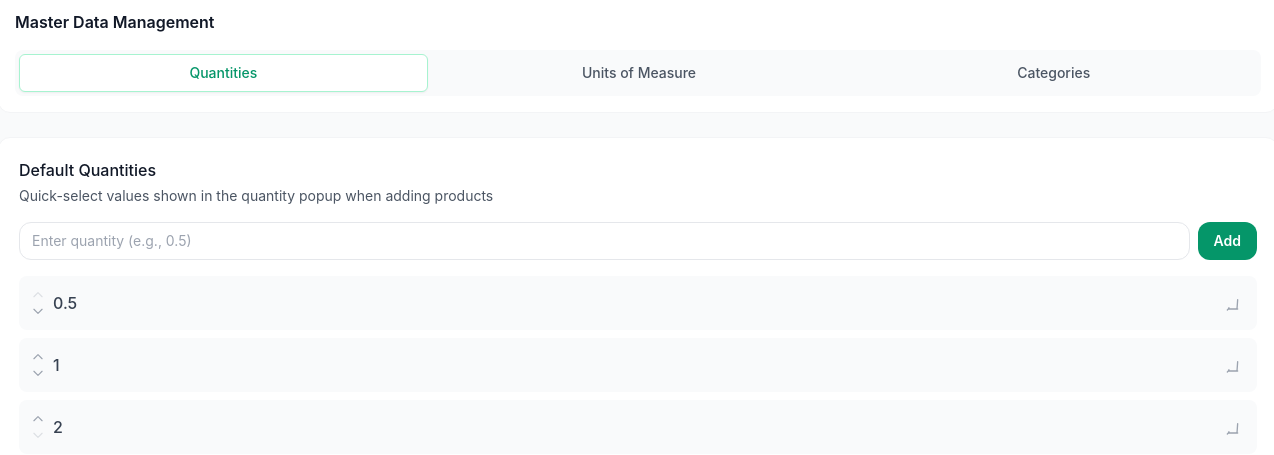
Test: MasterDataTab › Master Categories Section › should display categories with color indicators
Click the button "Categories". click: (1054, 73)
box: [850, 54, 1257, 92]
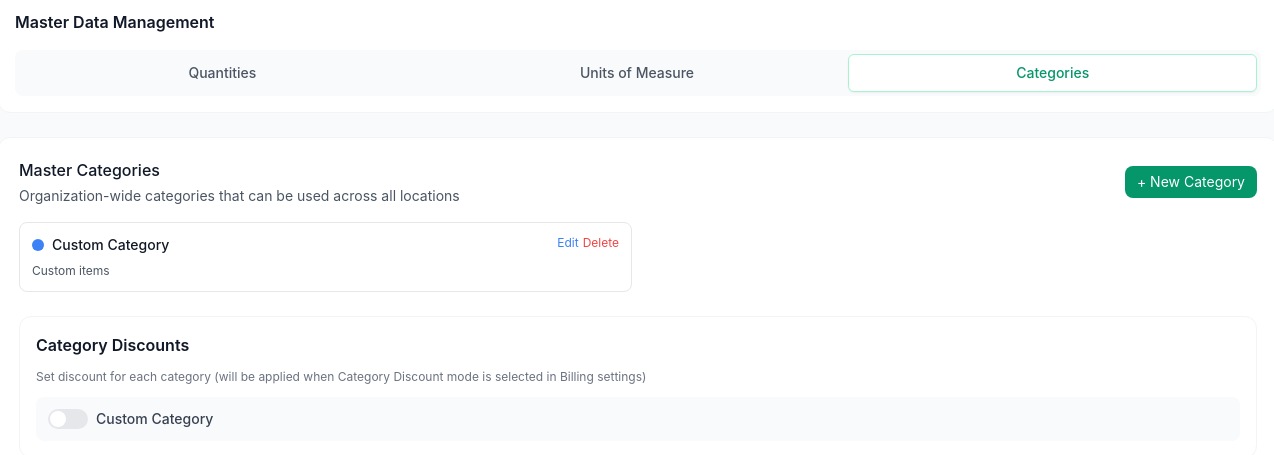
Now the heading "Custom Category" is shown, box [52, 235, 169, 255]
